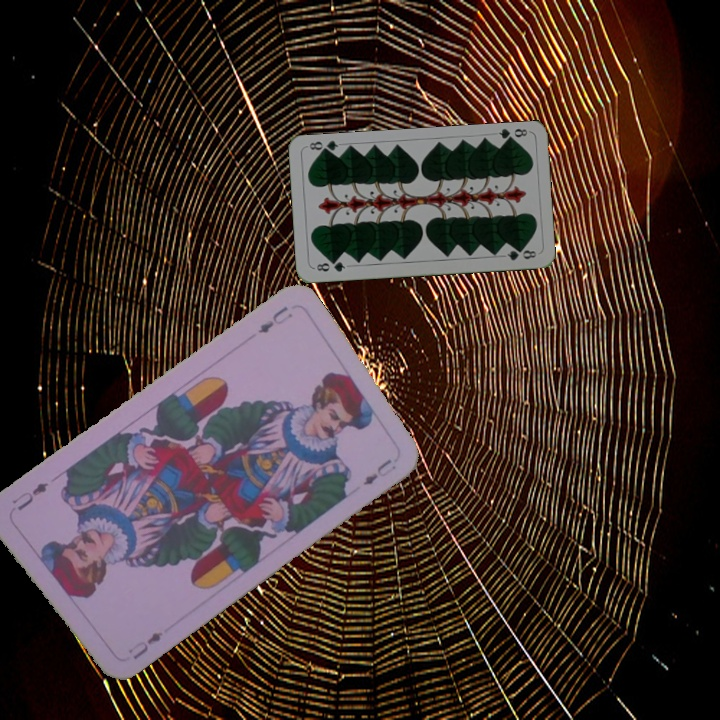EU: (123, 627, 166, 662), (254, 301, 296, 336)
G8: (495, 124, 530, 145), (312, 257, 348, 275)
